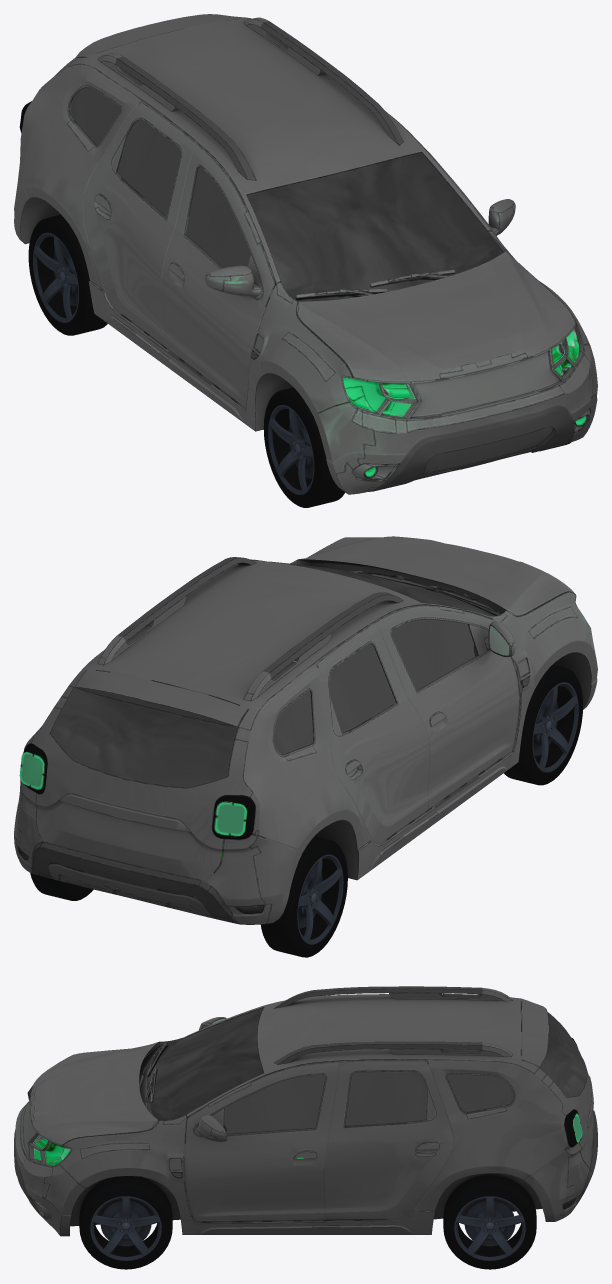
Rendered from car_B_v3_gray.glb.
The picture shows the model from 3 angles, top to bottom: view 1: azimuth 30°, elevation 25°; view 2: azimuth 150°, elevation 25°; view 3: azimuth 270°, elevation 25°; orthographic projection. The views are drawn at different scales.
Visible parts, largest first — view 1: body, Dacia_Duster_2018_FR_wheel, Dacia_Duster_2018_BR_wheel; view 2: body, Dacia_Duster_2018_BR_wheel, Dacia_Duster_2018_FR_wheel, Dacia_Duster_2018_BL_wheel; view 3: body, Dacia_Duster_2018_BL_wheel, Dacia_Duster_2018_FL_wheel.
Boxes of the visible parts, <box> form: body: <box>14,14,597,494</box>; Dacia_Duster_2018_FR_wheel: <box>263,387,345,507</box>; Dacia_Duster_2018_BR_wheel: <box>28,214,107,335</box>; body: <box>14,536,597,924</box>; Dacia_Duster_2018_BR_wheel: <box>261,836,347,957</box>; Dacia_Duster_2018_FR_wheel: <box>504,665,582,785</box>; Dacia_Duster_2018_BL_wheel: <box>30,873,93,900</box>; body: <box>14,986,597,1236</box>; Dacia_Duster_2018_BL_wheel: <box>443,1175,536,1269</box>; Dacia_Duster_2018_FL_wheel: <box>79,1176,172,1269</box>.
Bounding box in the file's own units: 2.03 × 1.68 × 4.32.
Materials: 2 (2 with a texture image).
